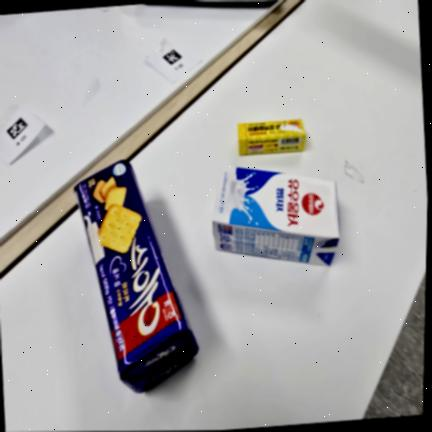cracker_ace: (75, 160, 198, 392)
gum_yellow: (237, 119, 305, 155)
milk_blue: (212, 167, 339, 265)
